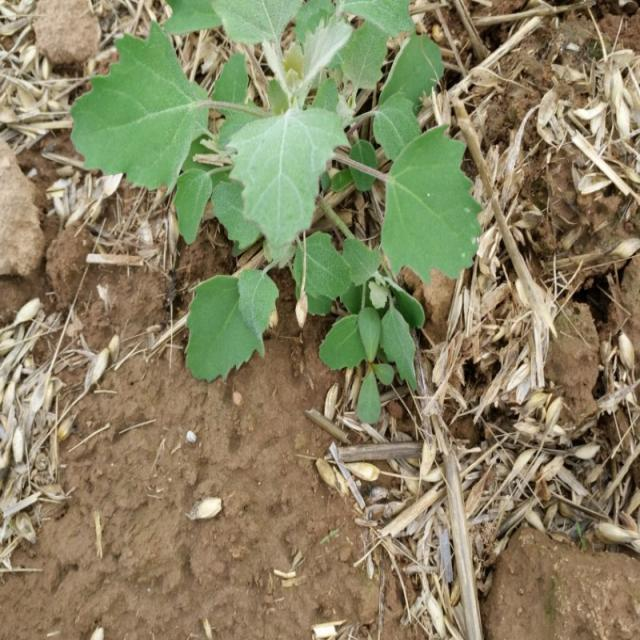goosefoots: (65, 0, 482, 333)
